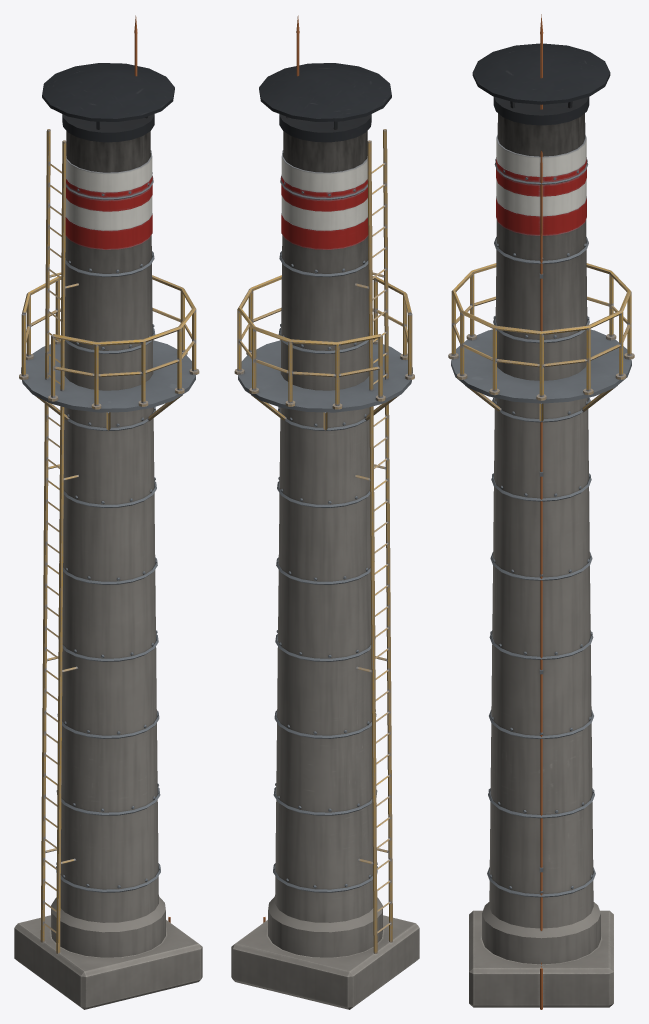
File: chimenea_industrial.fbx
3 views of the same model, side by side, from view 1: azimuth 30°, elevation 25°; view 2: azimuth 150°, elevation 25°; view 3: azimuth 270°, elevation 25° (orthographic). The views are drawn at different scales.
Parts seen in each view (by area): view 1: chimenea_industrial; view 2: chimenea_industrial; view 3: chimenea_industrial.
Boxes of the visible parts, box(x1,y1,x2,y2) form: chimenea_industrial: box(14, 15, 202, 1009); chimenea_industrial: box(231, 15, 419, 1009); chimenea_industrial: box(448, 14, 634, 1009).
Size of the model in its own units: 2.54 by 14.9 by 2.57.
Materials: 1 (1 with a texture image).
